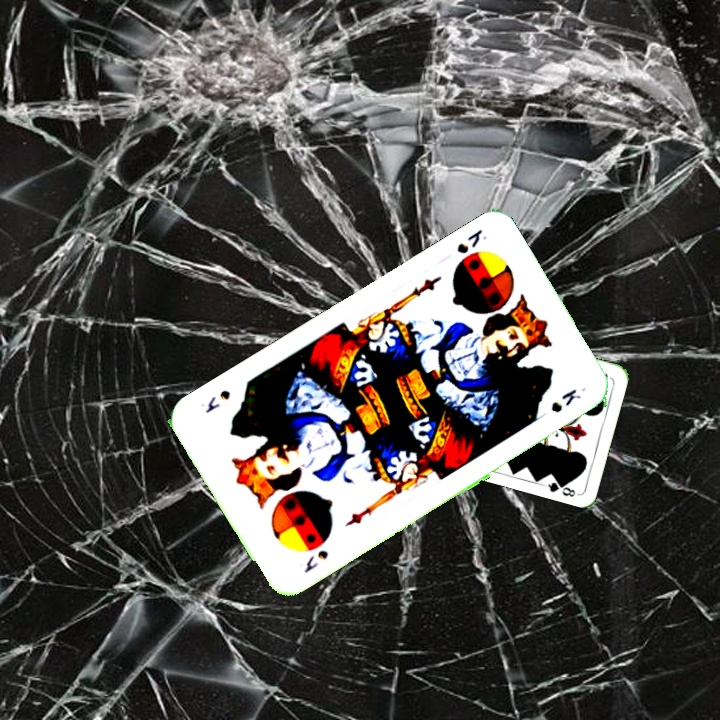SK: (452, 225, 489, 257), (300, 546, 331, 576)
